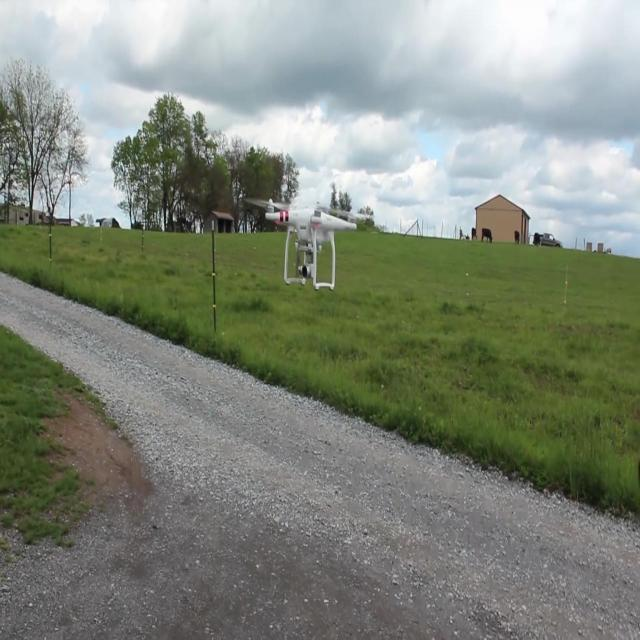drone: (252, 193, 366, 291)
